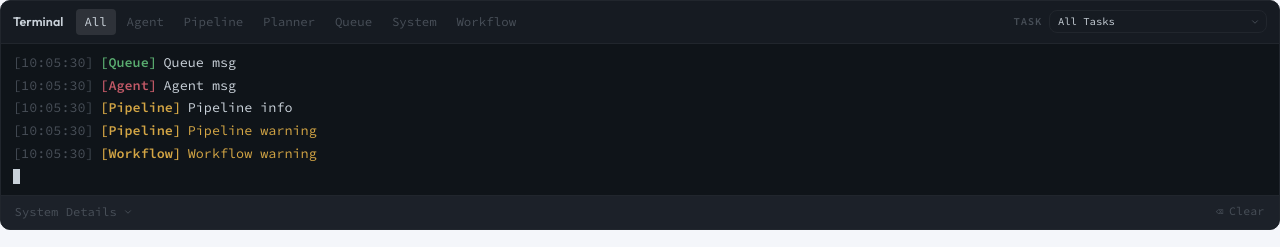
Test case: TerminalFeed › filters agent and pipeline events by role tabs
Click the tab "Agent" at (145, 22), box [118,9,173,35]
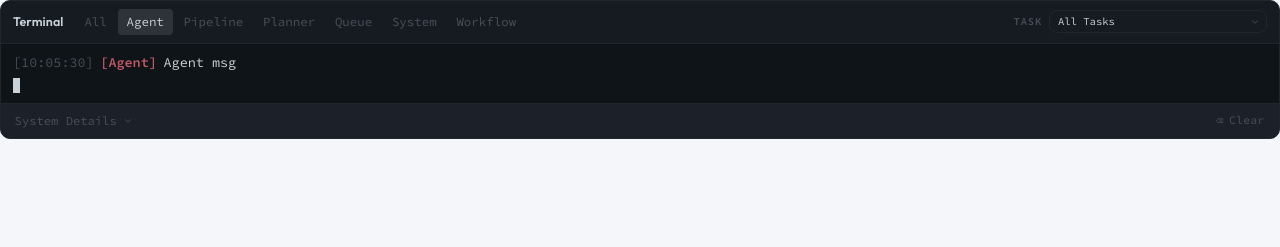
Expected: the text with class "terminal-message" reads "Agent msg", [164,54,236,71]
Result: the number of elements with class "terminal-line" is 1 at [13,54,236,71]
Click the tab "Pipeline" at (213, 22), box [175,9,252,35]
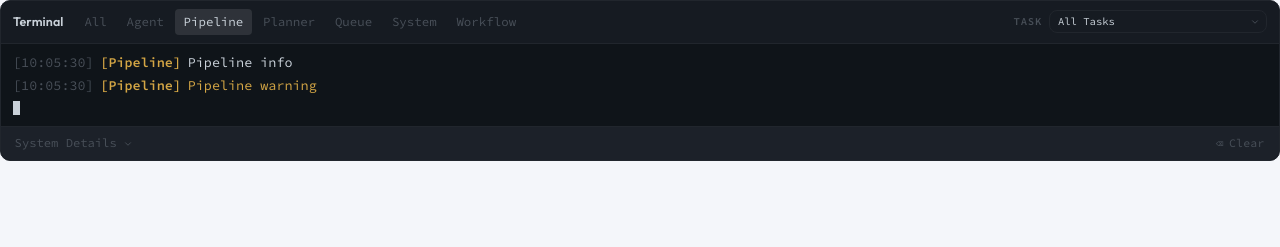
Result: the number of elements with class "terminal-line" is 2 at [13,54,292,71]; [13,76,317,94]
